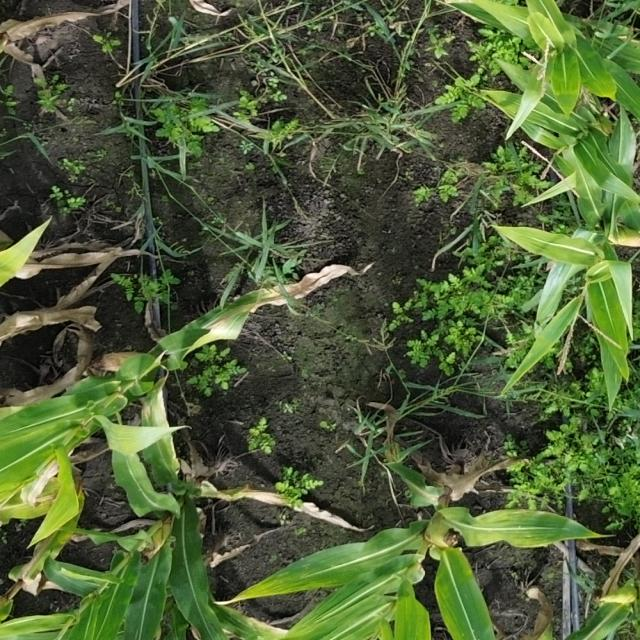gray-leaf-spot: (272, 562, 332, 592)
northern-leaf-blight: (199, 304, 257, 344), (141, 396, 177, 448)
